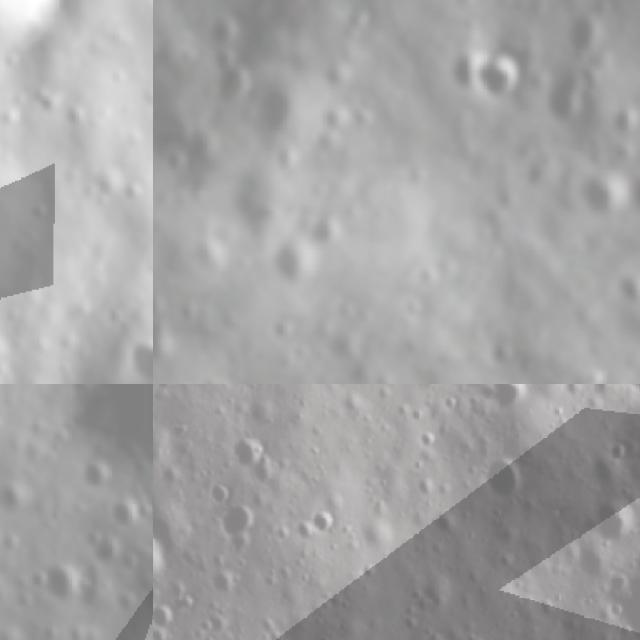crater: (46, 384, 153, 459), (571, 158, 636, 224), (467, 40, 531, 107), (549, 4, 612, 66), (268, 227, 327, 290), (536, 64, 590, 132), (207, 55, 267, 112), (209, 501, 261, 556), (476, 452, 528, 504), (592, 502, 640, 556), (606, 562, 640, 637), (201, 3, 248, 51), (307, 204, 353, 253), (38, 559, 82, 607), (603, 258, 640, 314), (223, 431, 265, 477), (602, 97, 640, 143), (306, 500, 346, 540), (480, 384, 533, 414), (80, 454, 114, 498), (90, 530, 126, 567), (153, 521, 170, 598), (130, 328, 153, 384), (106, 494, 141, 530), (0, 478, 29, 516), (287, 336, 320, 369), (623, 161, 640, 224), (267, 312, 296, 343), (28, 564, 52, 594), (624, 421, 640, 464), (80, 523, 104, 549), (0, 528, 22, 555), (40, 620, 61, 640)
